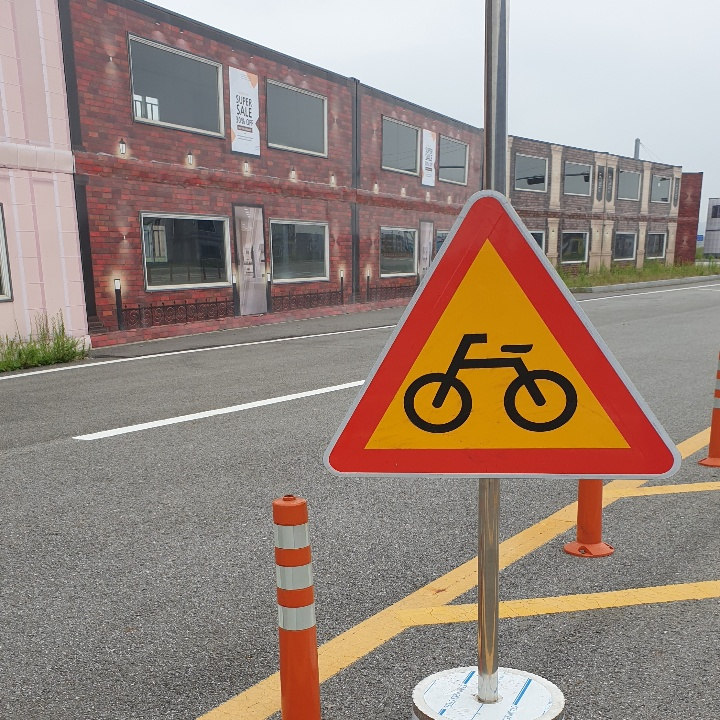bicycle: (332, 189, 677, 479)
